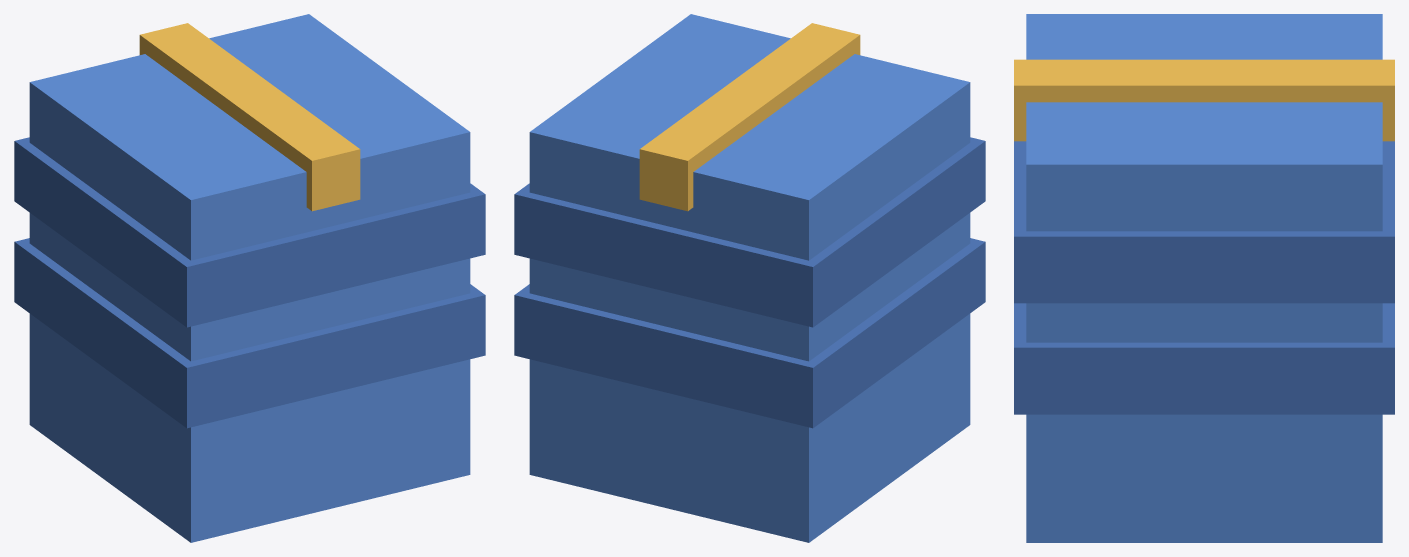
Rendered from esquiador_manga_sup.glb.
3 views of the same model, side by side, from view 1: azimuth 30°, elevation 25°; view 2: azimuth 150°, elevation 25°; view 3: azimuth 270°, elevation 25° (orthographic). The views are drawn at different scales.
Parts seen in each view (by area): view 1: esquiador_manga_sup; view 2: esquiador_manga_sup; view 3: esquiador_manga_sup.
Part boxes in pixels (box(x1,y1,x2,y2)): esquiador_manga_sup: box(14, 14, 485, 542); esquiador_manga_sup: box(514, 14, 985, 542); esquiador_manga_sup: box(1014, 14, 1394, 542).
Size of the model in its own units: 0.31 by 0.355 by 0.31.
